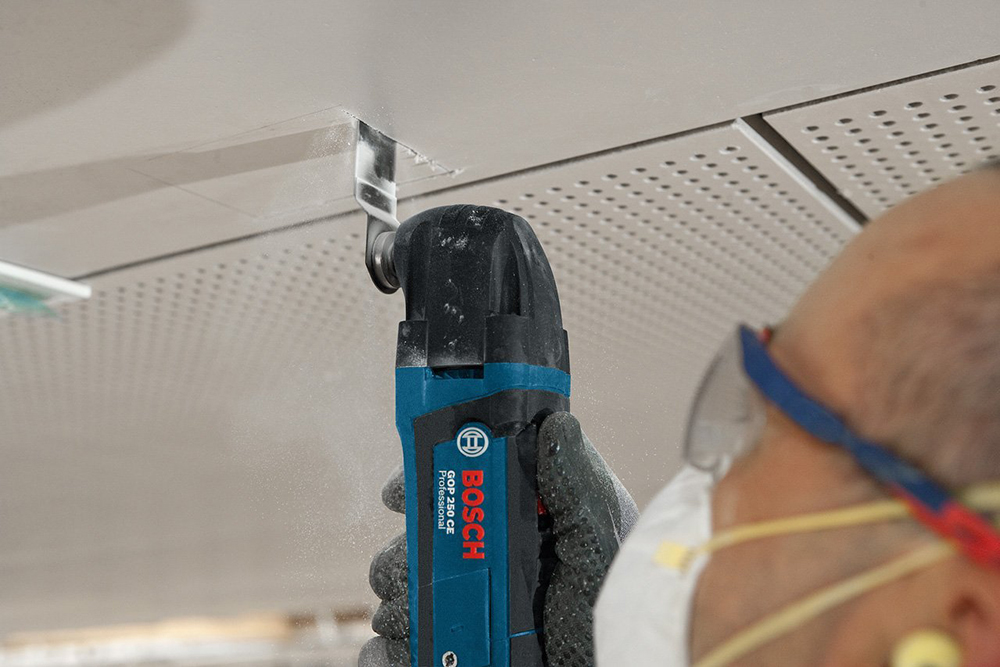Bosch: (453, 464, 496, 572)
